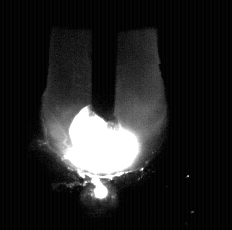arame: (92, 0, 117, 122)
poca: (42, 0, 165, 230)
